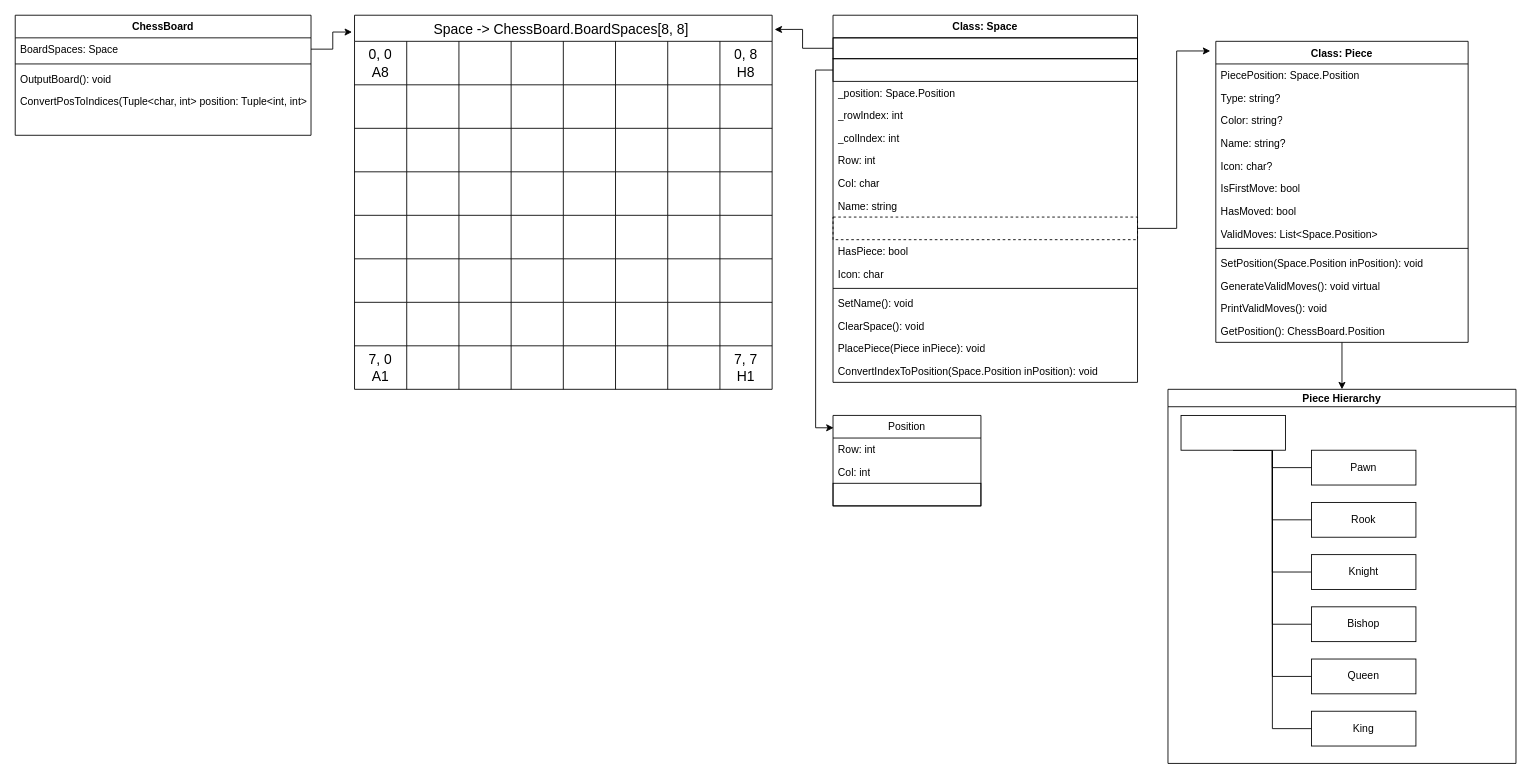
Some shapes in this 1531 by 779 pixel diagram are drawn without their labels. Each missing label, with the centre of its shape:
"Piece" belongs at pixel 1232 432.
"Piece: Piece" belongs at pixel 985 228.
"Position(int inRow, int inCol)" belongs at pixel 906 494.
"Space(int inRow, int inCol)" belongs at pixel 985 48.
"struct Position: Row int, Col int" belongs at pixel 985 69.
